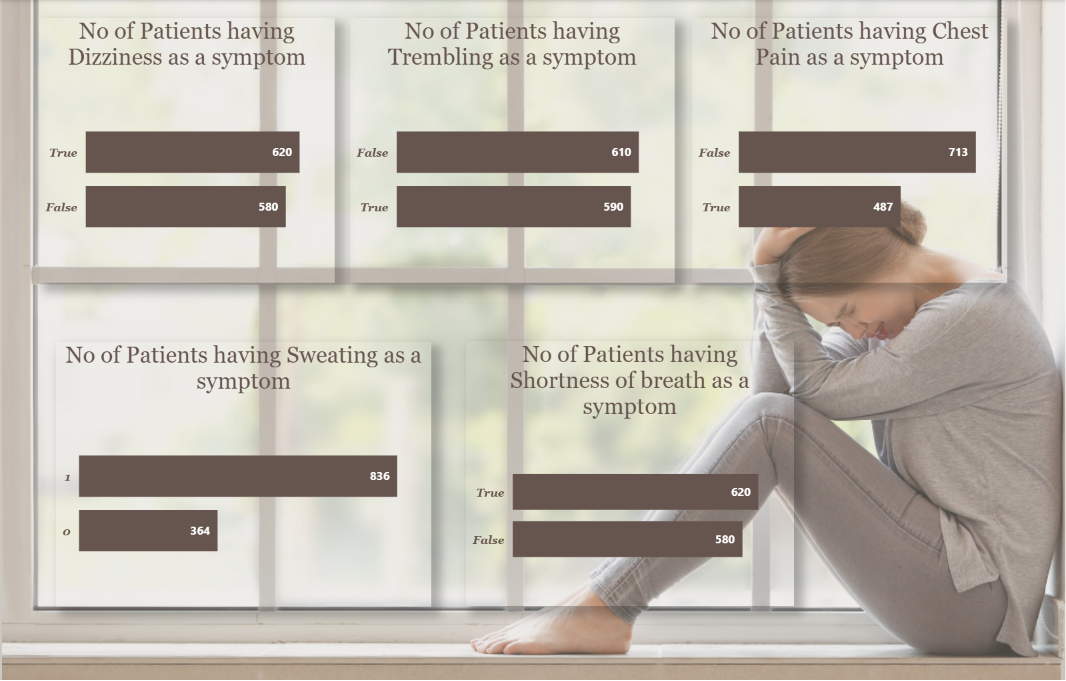

What the dashboard file says about the page in this screenshot:
{"tool":"powerbi","page":{"name":"No of patients","canvas":[1280,720],"ordinal":1},"visuals":[{"type":"barChart","title":"No of Patients having Dizziness as a symptom","fields":{"Category":["PANIC_ATTACK_DATA.DIZZINESS"],"Y":["CountNonNull(PANIC_ATTACK_DATA.ID)"]},"box":[38.8,19.4,311.9,279.6],"z":0},{"type":"barChart","title":"No of Patients having Trembling as a symptom","fields":{"Category":["PANIC_ATTACK_DATA.TREMBLING"],"Y":["CountNonNull(PANIC_ATTACK_DATA.ID)"]},"box":[366.9,19.4,342.6,279.6],"z":1000},{"type":"barChart","title":"No of Patients having Sweating as a symptom","fields":{"Category":["PANIC_ATTACK_DATA.SWEATING"],"Y":["CountNonNull(PANIC_ATTACK_DATA.ID)"]},"box":[56.6,360.4,396,279.6],"z":2000},{"type":"barChart","title":"No of Patients having Shortness of breath as a symptom","fields":{"Category":["PANIC_ATTACK_DATA.DIZZINESS"],"Y":["CountNonNull(PANIC_ATTACK_DATA.ID)"]},"box":[489.2,359.9,345.9,279.6],"z":3000},{"type":"barChart","title":"No of Patients having Chest Pain as a symptom","fields":{"Category":["PANIC_ATTACK_DATA.CHEST_PAIN"],"Y":["CountNonNull(PANIC_ATTACK_DATA.ID)"]},"box":[727.3,19.4,332.9,279.6],"z":4000}]}

Visuals, with their boxes on the page's 1280x720 design canvas (x1, y1, x2, y2). These are canvas units, not pixel positions in the 1066x681 screenshot, which may show the page scaled, cropped or inside an application window:
"No of Patients having Dizziness as a symptom" barChart: x1=39 y1=19 x2=351 y2=299
"No of Patients having Trembling as a symptom" barChart: x1=367 y1=19 x2=710 y2=299
"No of Patients having Sweating as a symptom" barChart: x1=57 y1=360 x2=453 y2=640
"No of Patients having Shortness of breath as a symptom" barChart: x1=489 y1=360 x2=835 y2=640
"No of Patients having Chest Pain as a symptom" barChart: x1=727 y1=19 x2=1060 y2=299
